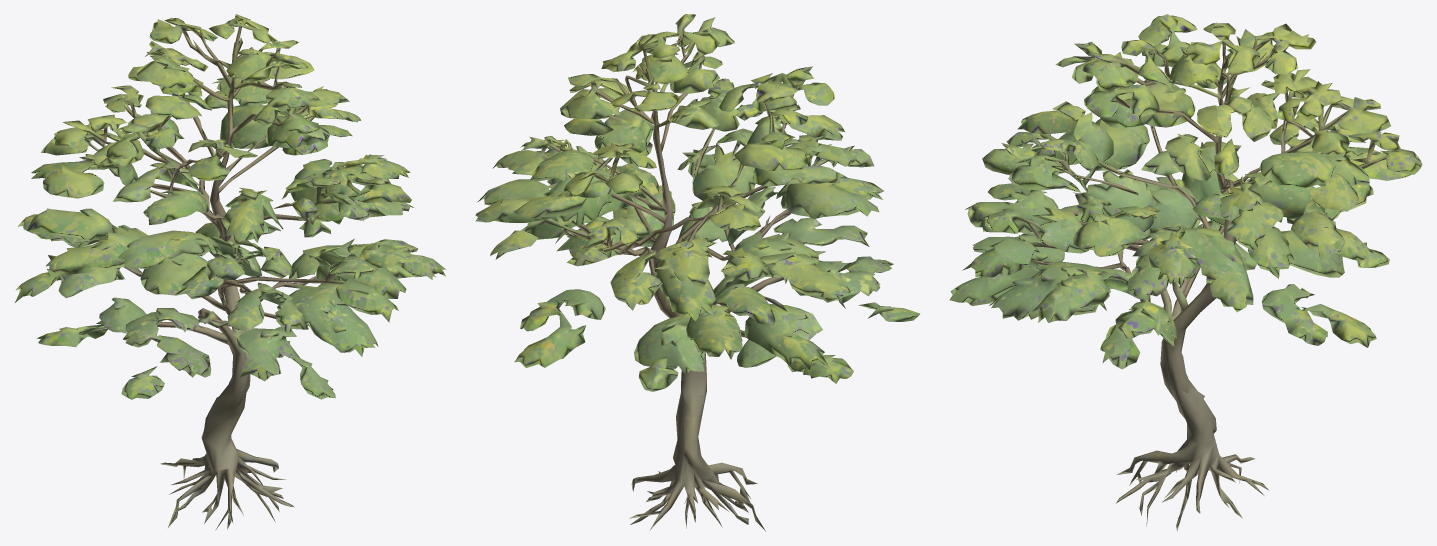
The model's file is garden-tree.glb.
The picture shows the model from 3 angles, left to right: view 1: azimuth 30°, elevation 25°; view 2: azimuth 150°, elevation 25°; view 3: azimuth 270°, elevation 25°; orthographic projection. The views are drawn at different scales.
Parts seen in each view (by area): view 1: tripo_node_aa78615b-2039-4cbe-a47d-d8d6f12b25ac; view 2: tripo_node_aa78615b-2039-4cbe-a47d-d8d6f12b25ac; view 3: tripo_node_aa78615b-2039-4cbe-a47d-d8d6f12b25ac.
Part boxes in pixels (bbox=[...]): tripo_node_aa78615b-2039-4cbe-a47d-d8d6f12b25ac: bbox=[15, 14, 446, 530]; tripo_node_aa78615b-2039-4cbe-a47d-d8d6f12b25ac: bbox=[475, 14, 920, 531]; tripo_node_aa78615b-2039-4cbe-a47d-d8d6f12b25ac: bbox=[949, 14, 1422, 531].
Size of the model in its own units: 0.7582 by 1 by 0.8535.
1 material, 1 textured.
